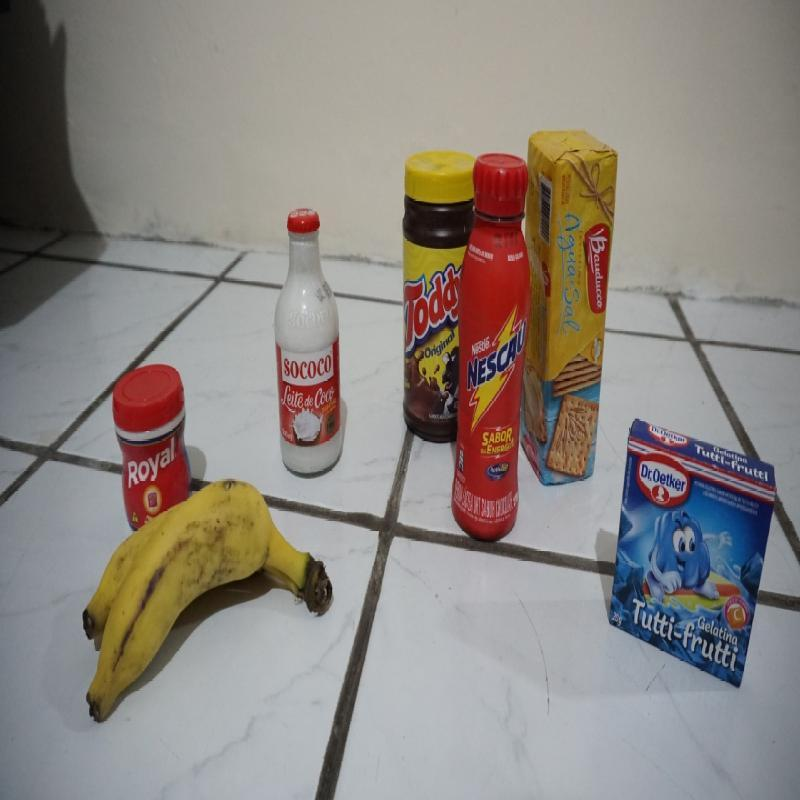Banana: (73, 484, 329, 723)
Chocolate Milk: (461, 156, 518, 540)
Chocolate Powder: (396, 134, 464, 450)
Coconut Milk: (270, 192, 348, 481)
Cracker: (525, 118, 610, 494)
Gelatine: (615, 419, 775, 704)
Yeast: (102, 369, 188, 514)
